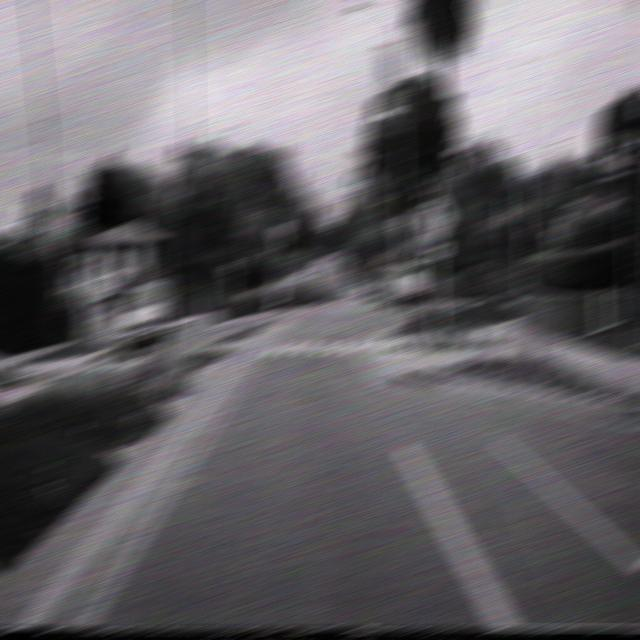pedestrianCrossing: (418, 193, 452, 243)
yield: (390, 213, 413, 238), (270, 222, 292, 245)
